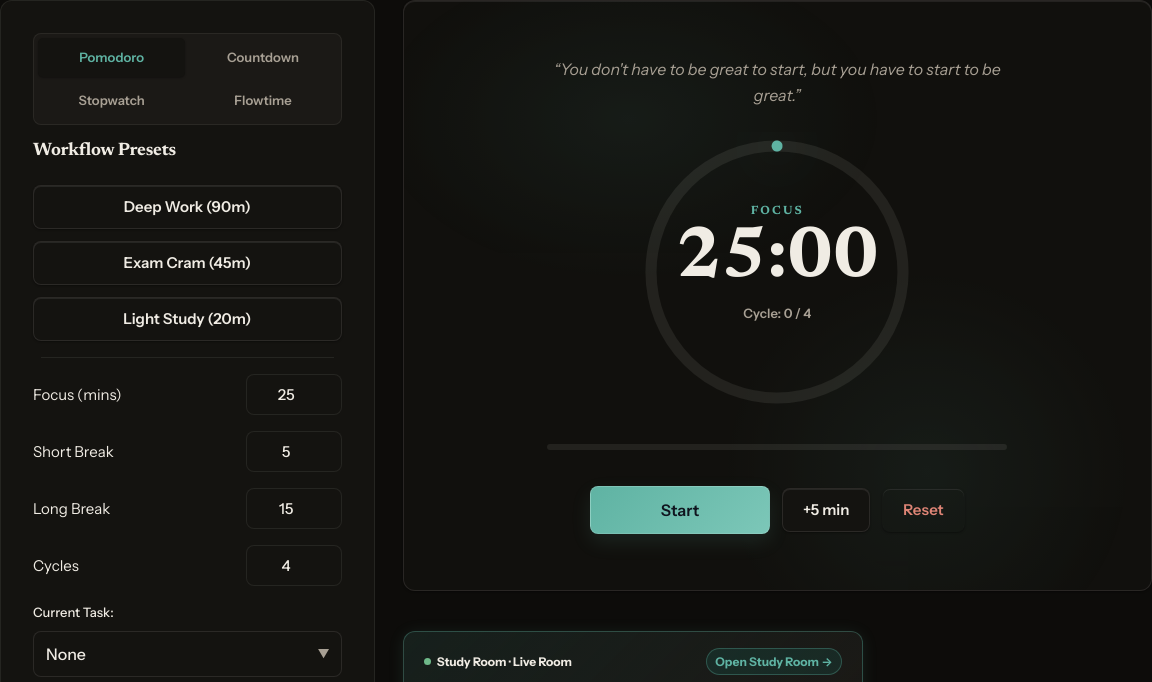
Scenario: TimerView › swaps Start for Pause while running
What coordinates should you click on to do the following:
click the button "Start"
I would click on:
 (680, 510)
Its box is [590,486,770,534].
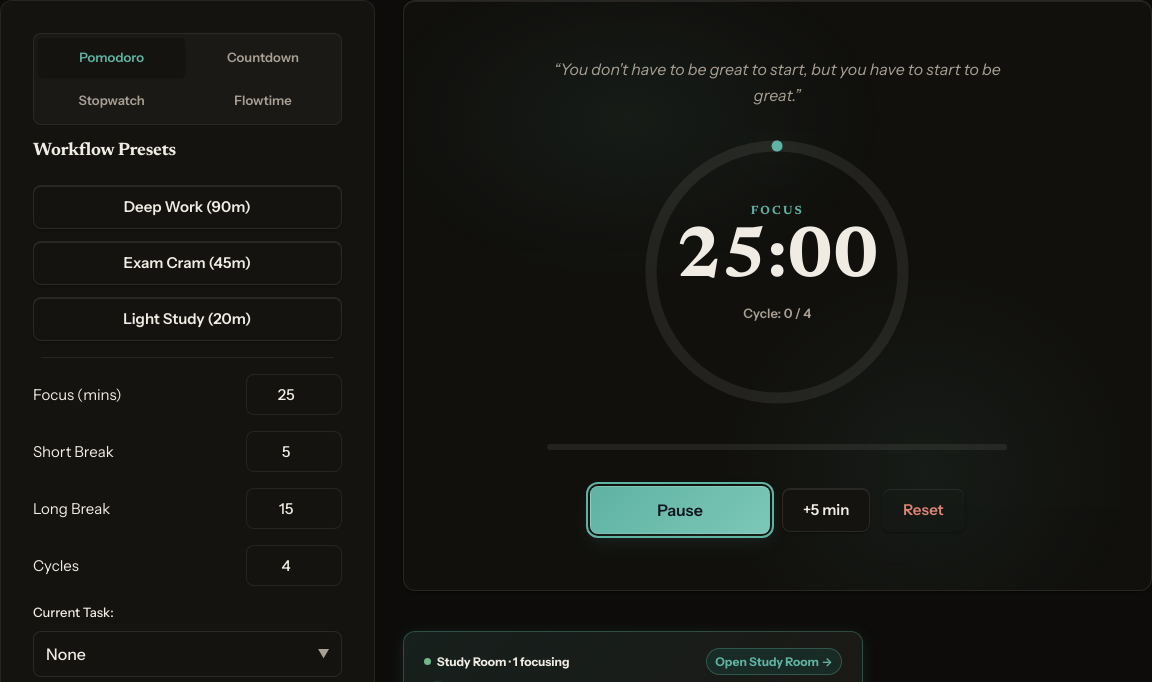
Now the button "Pause" is shown
What coordinates should you click on to do the following:
click the button "Pause"
I would click on:
 (680, 510)
Its box is [590,486,770,534].
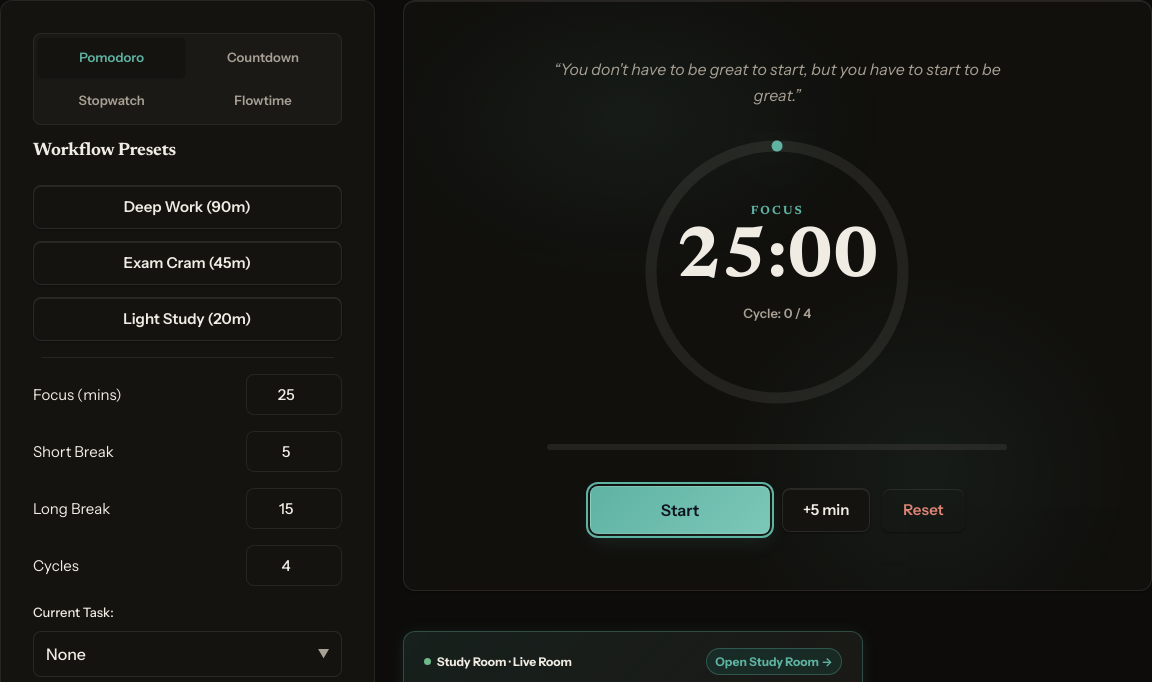
Now the button "Start" is shown, box [590,486,770,534]
